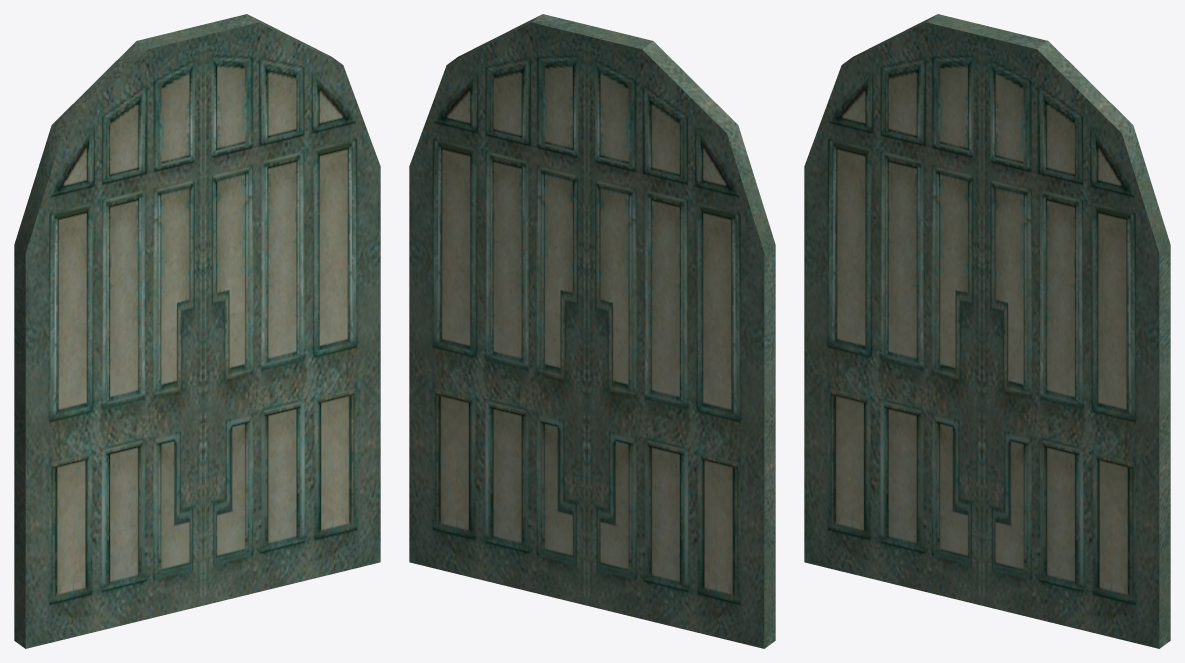
The model's file is door_nboo_filler_s02.fbx.
3 renders of one model, left to right at view 1: azimuth 30°, elevation 25°; view 2: azimuth 150°, elevation 25°; view 3: azimuth 330°, elevation 25°, orthographic.
Visible parts, largest first — view 1: mesh_node; view 2: mesh_node; view 3: mesh_node.
Part boxes in pixels (left/top/right/bottom): mesh_node: left=14, top=14, right=380, bottom=648; mesh_node: left=409, top=14, right=775, bottom=648; mesh_node: left=804, top=14, right=1170, bottom=648.
Bounding box in the file's own units: 2.11 × 3.23 × 0.1171.
